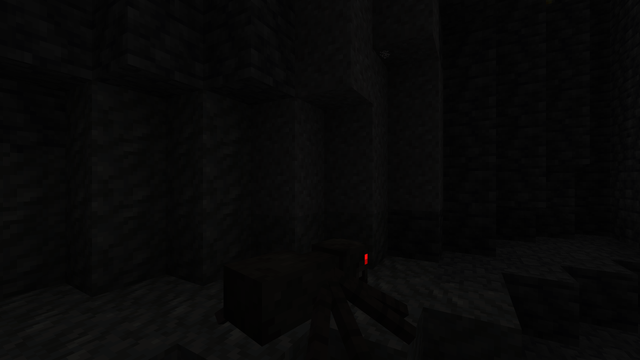araignees: (222, 227, 392, 350)
